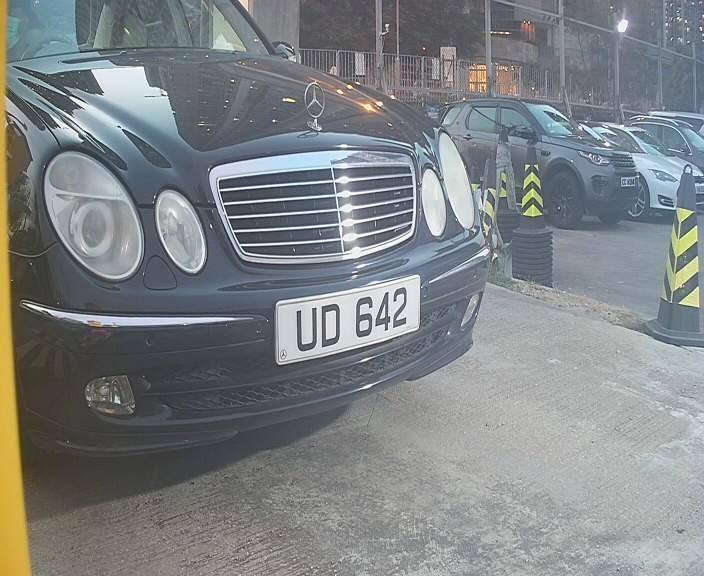privatecar: (19, 13, 472, 451)
